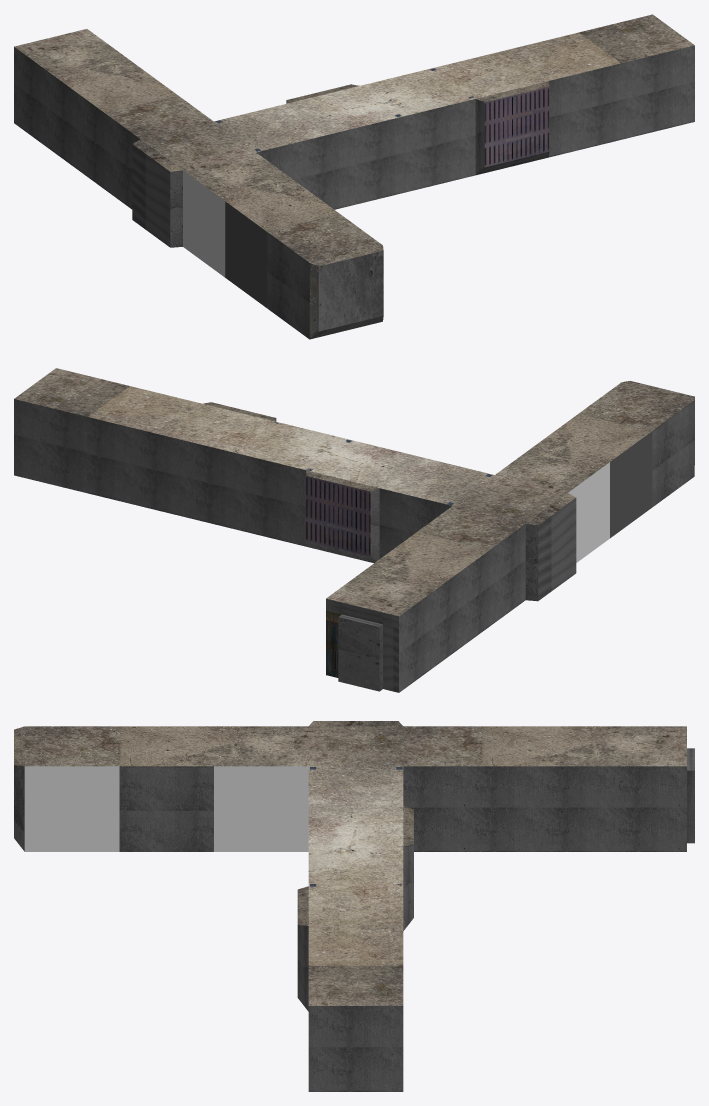
Rendered from corridor_bake2.fbx.
The picture shows the model from 3 angles, top to bottom: view 1: azimuth 30°, elevation 25°; view 2: azimuth 150°, elevation 25°; view 3: azimuth 270°, elevation 25°; orthographic projection. The views are drawn at different scales.
Parts seen in each view (by area): view 1: Corridor, Ceiling; view 2: Corridor, Ceiling; view 3: Corridor, Ceiling.
Boxes of the visible parts, x1,y1,x2,y2 form: Corridor: (14,45,694,339); Ceiling: (14,14,694,266); Corridor: (14,397,694,692); Ceiling: (14,368,694,616); Corridor: (14,748,694,1091); Ceiling: (14,721,686,1005).
Bounding box in the file's own units: 1429 × 200 × 1440.
